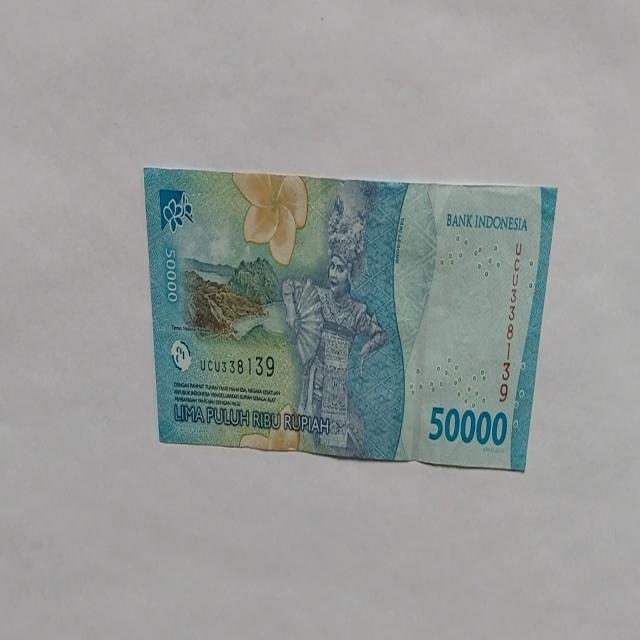lima puluh ribu rupiah: (142, 166, 558, 472)
